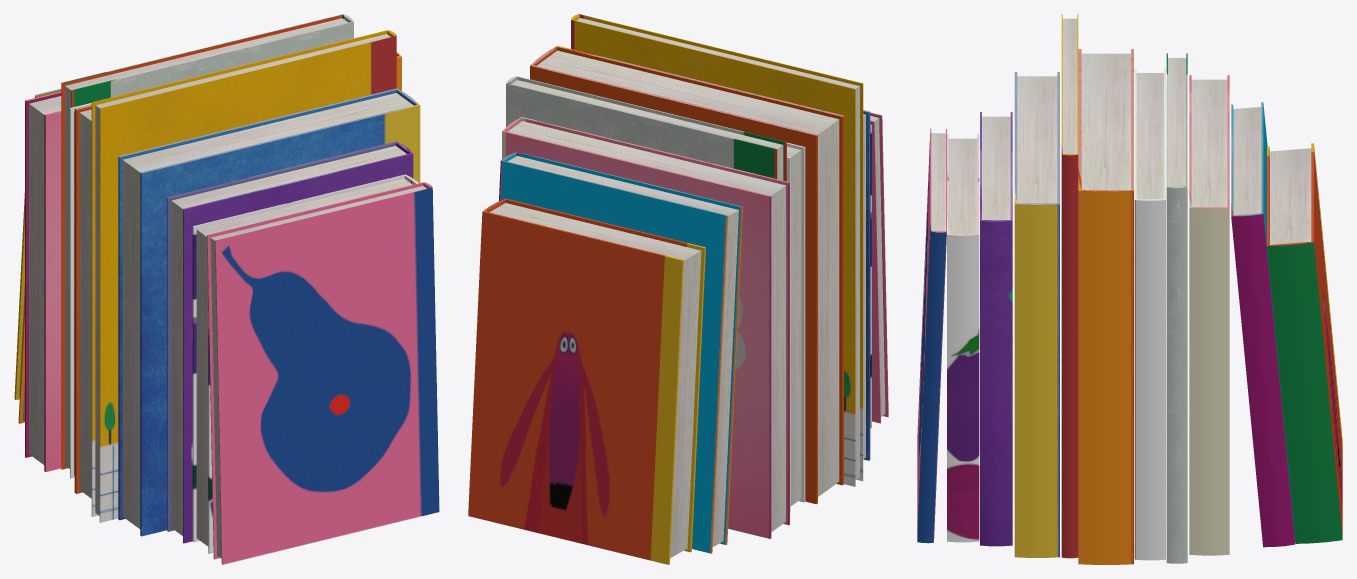
File: Books2_4.FBX
The picture shows the model from 3 angles, left to right: view 1: azimuth 30°, elevation 25°; view 2: azimuth 150°, elevation 25°; view 3: azimuth 270°, elevation 25°; orthographic projection. The views are drawn at different scales.
Parts seen in each view (by area): view 1: Books5; view 2: Books5; view 3: Books5.
Boxes of the visible parts, left/top/right/bottom form: Books5: left=14, top=14, right=439, bottom=564; Books5: left=468, top=14, right=888, bottom=564; Books5: left=917, top=14, right=1342, bottom=564.
Size of the model in its own units: 10.64 by 13.5 by 12.92.
